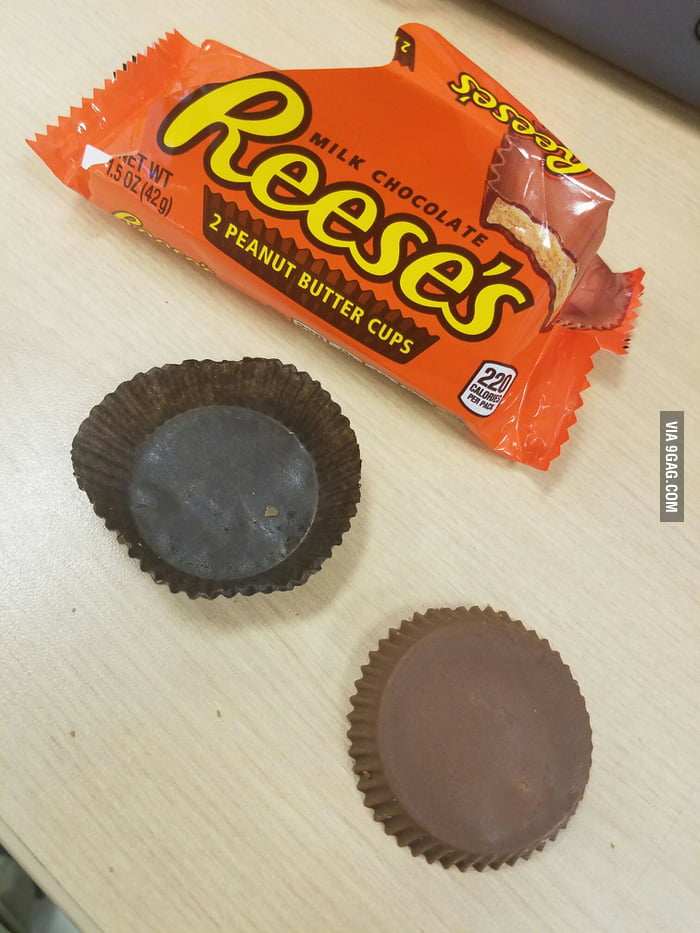reese: (20, 12, 647, 485)
